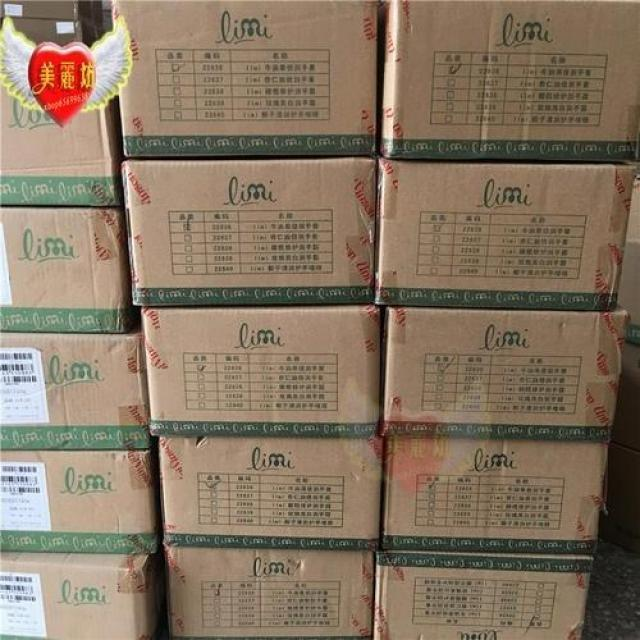box: (111, 0, 387, 165), (377, 0, 640, 161), (375, 157, 640, 316), (124, 159, 386, 309), (380, 306, 640, 437), (135, 306, 379, 437), (374, 436, 610, 561), (149, 431, 381, 549), (166, 539, 387, 640), (376, 552, 604, 640), (0, 213, 149, 335), (0, 445, 164, 553), (0, 335, 161, 445), (0, 77, 125, 211), (0, 548, 163, 640)
